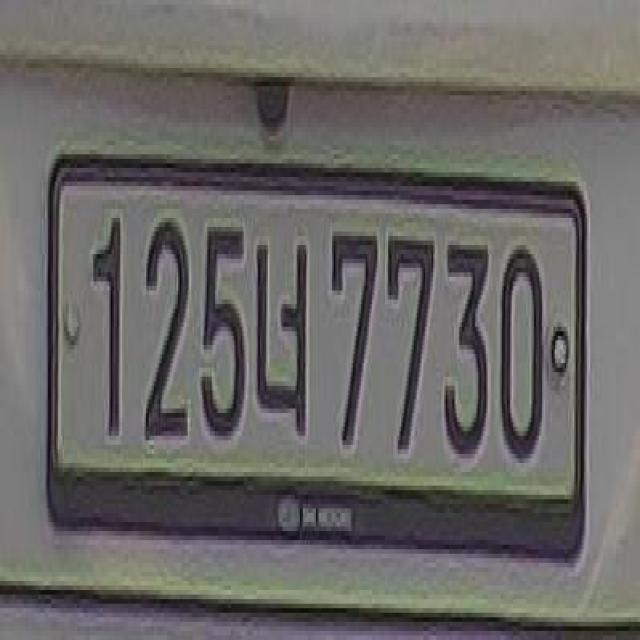illegal_plate: (39, 146, 595, 578)
